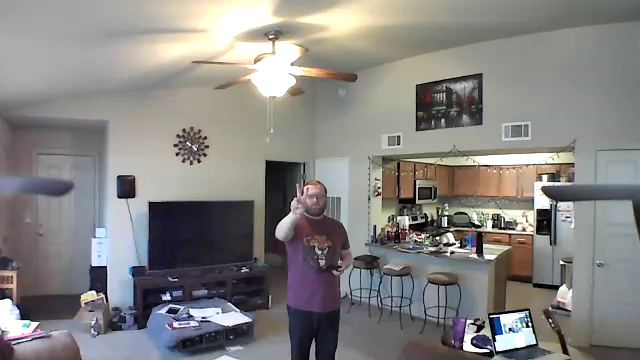peace: (289, 180, 310, 219)
